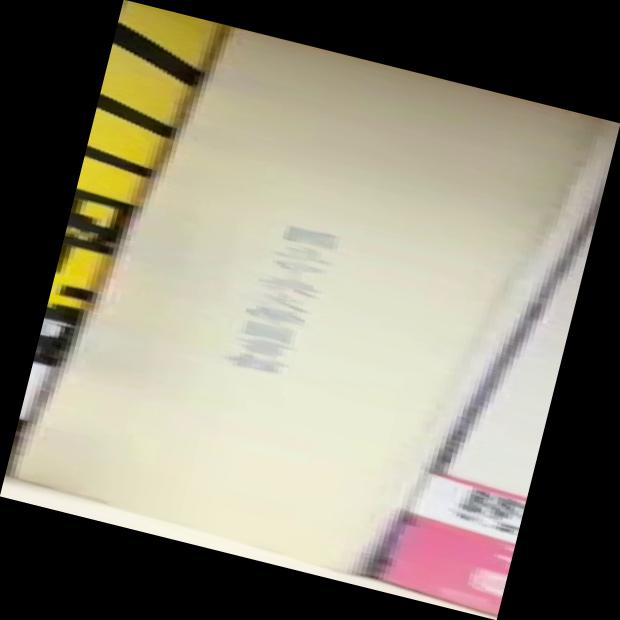backward: (1, 1, 616, 619)
